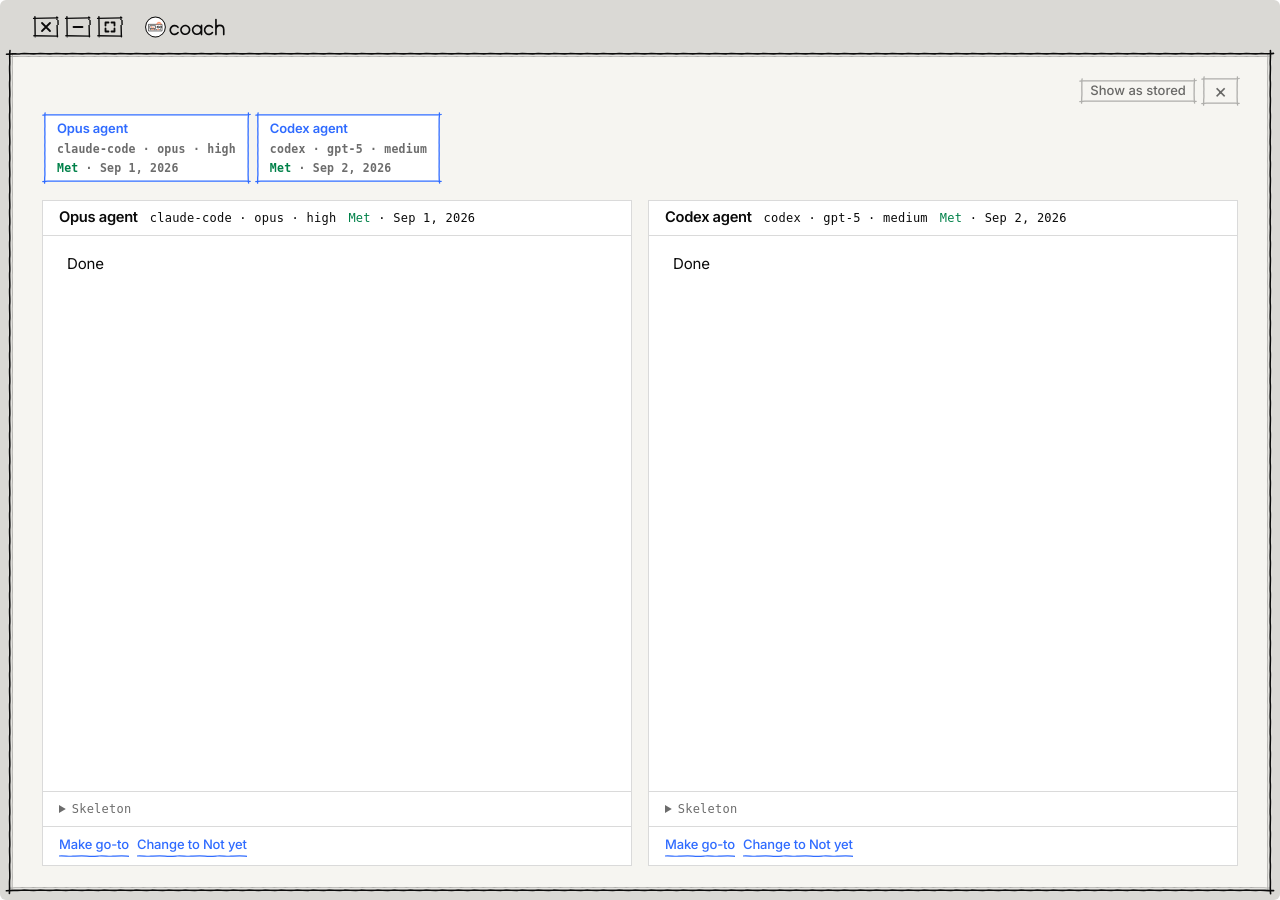
Test: CompareView under a strip › a failed Make go-to shows inline and writes no mark
Click the 2nd button "Make go-to".
click(700, 846)  # box [665,834,735,857]
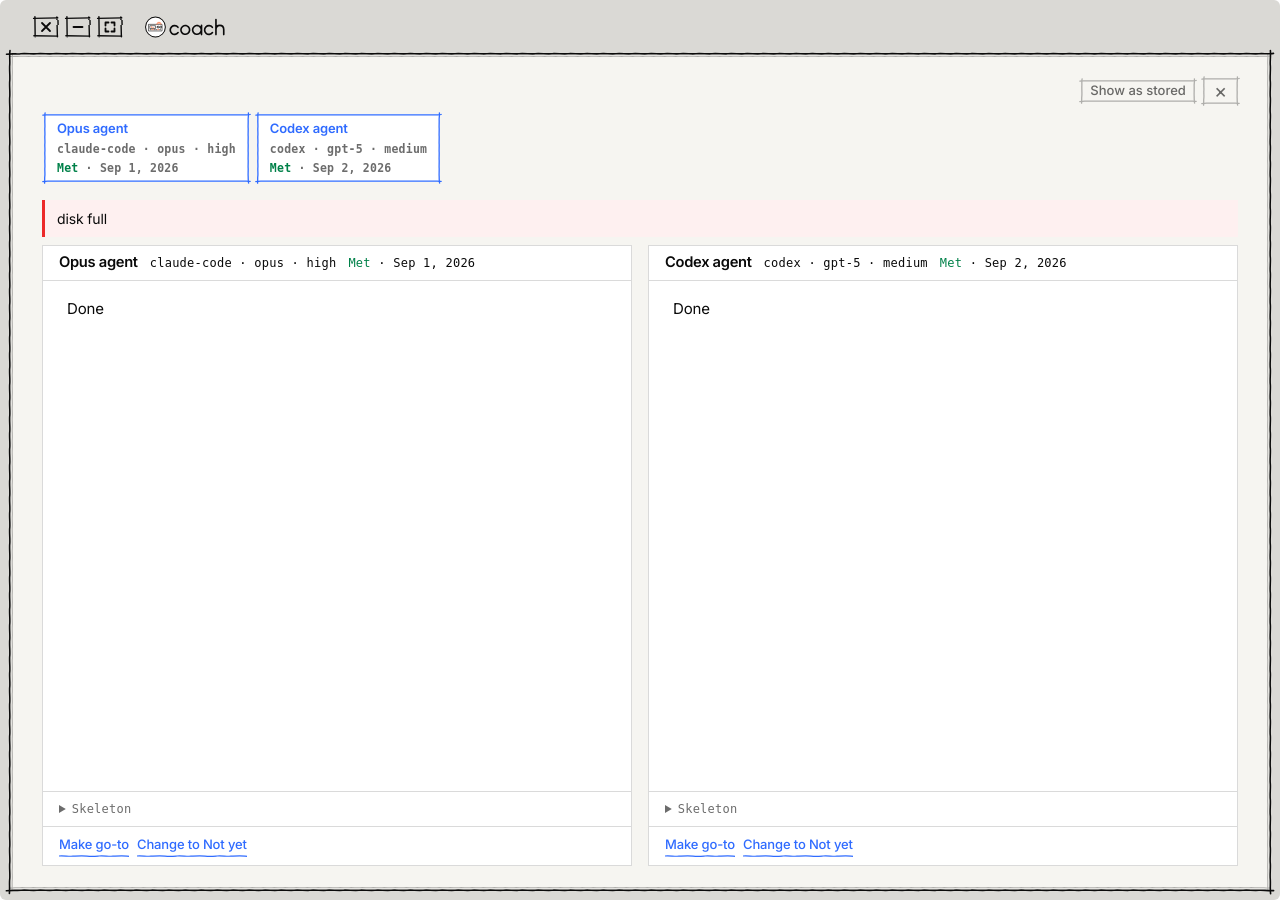
Check: the message reads "disk full", box [57,210,107,227]
